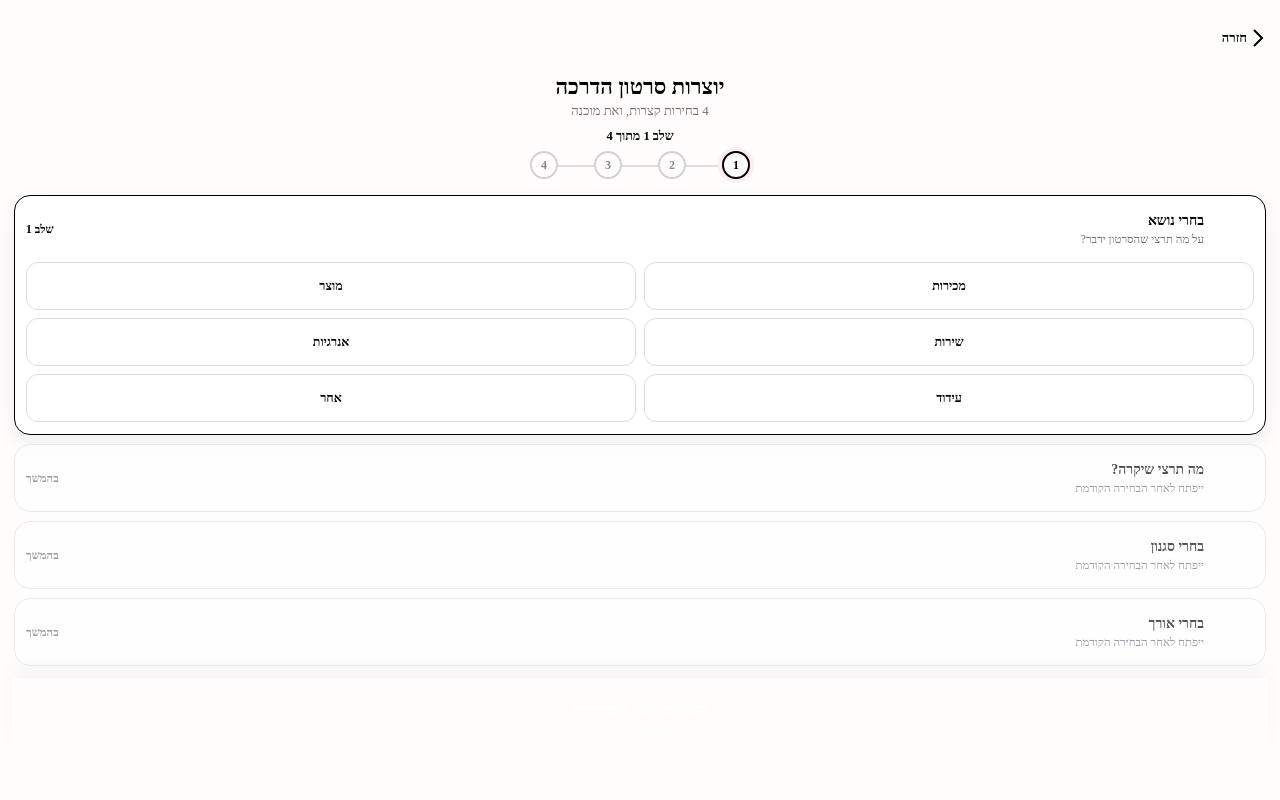
the video wizard › refuses to submit until all four choices are made
Click the button "מכירות" at (949, 286), box [644,262,1254,310]
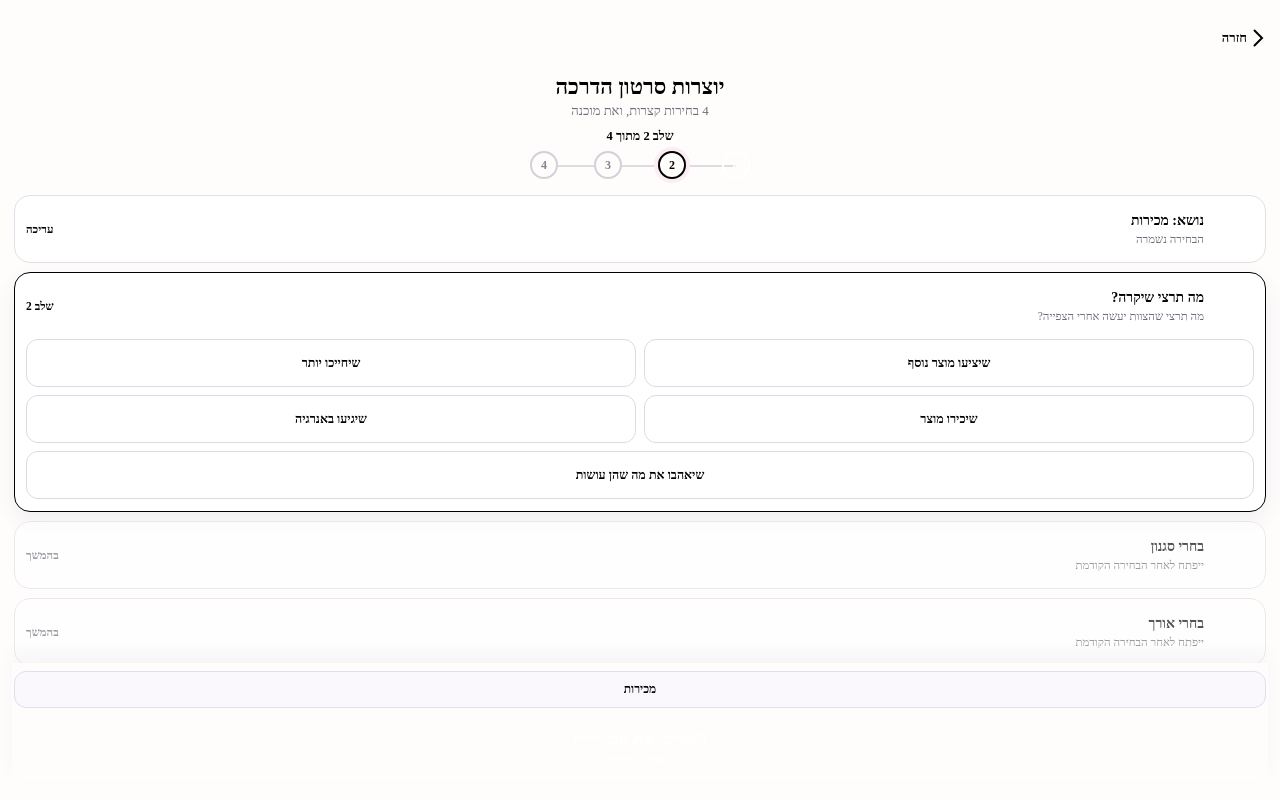
Click the button "שיציעו מוצר נוסף" at (949, 363), box [644,339,1254,387]
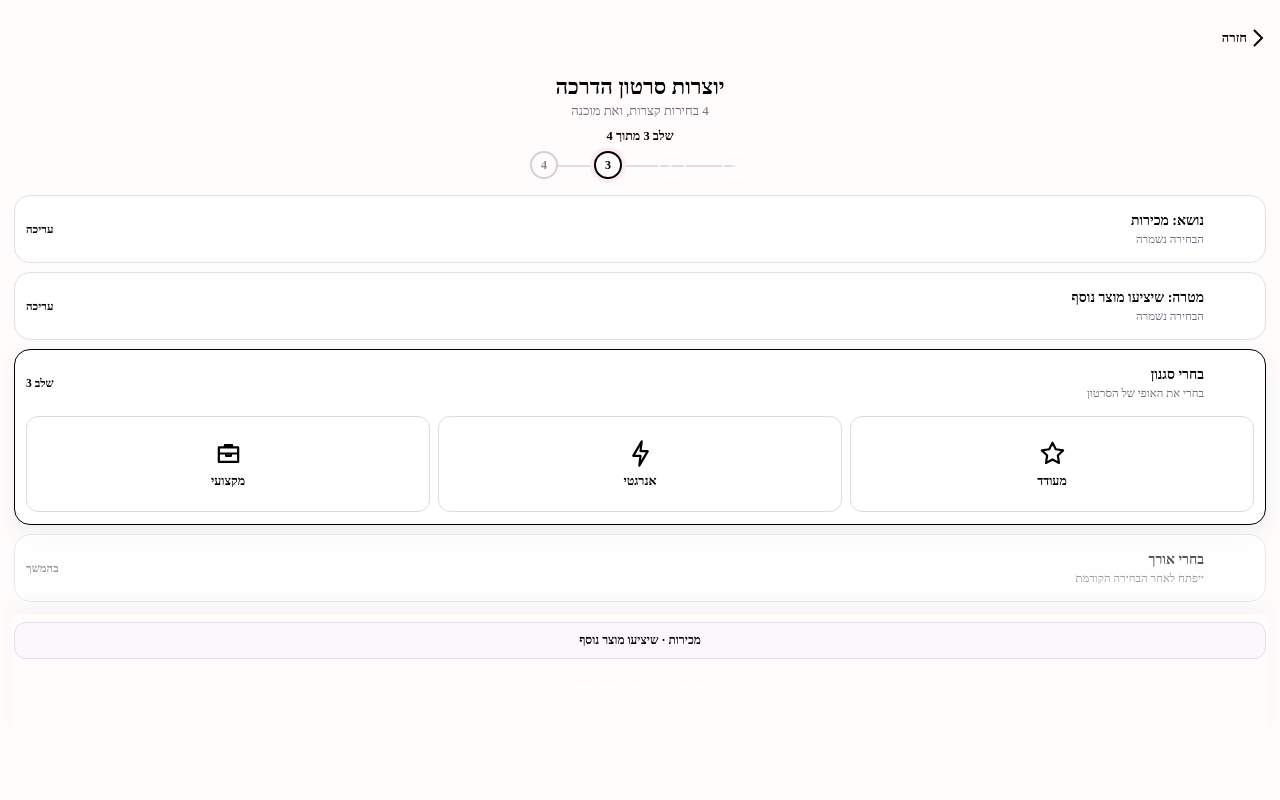
Click the button "אנרגטי" at (640, 464), box [438,416,842,512]
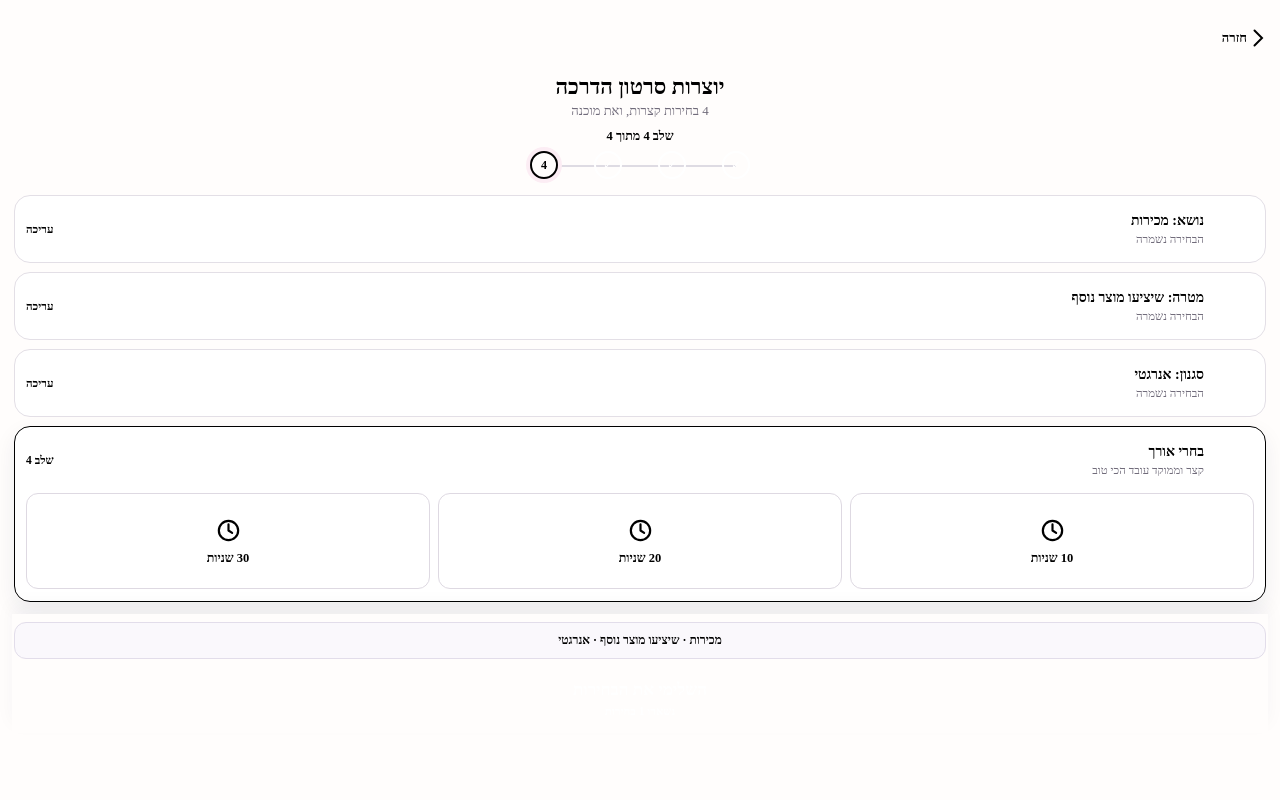
Click the button "20 שניות" at (640, 541), box [438,493,842,589]
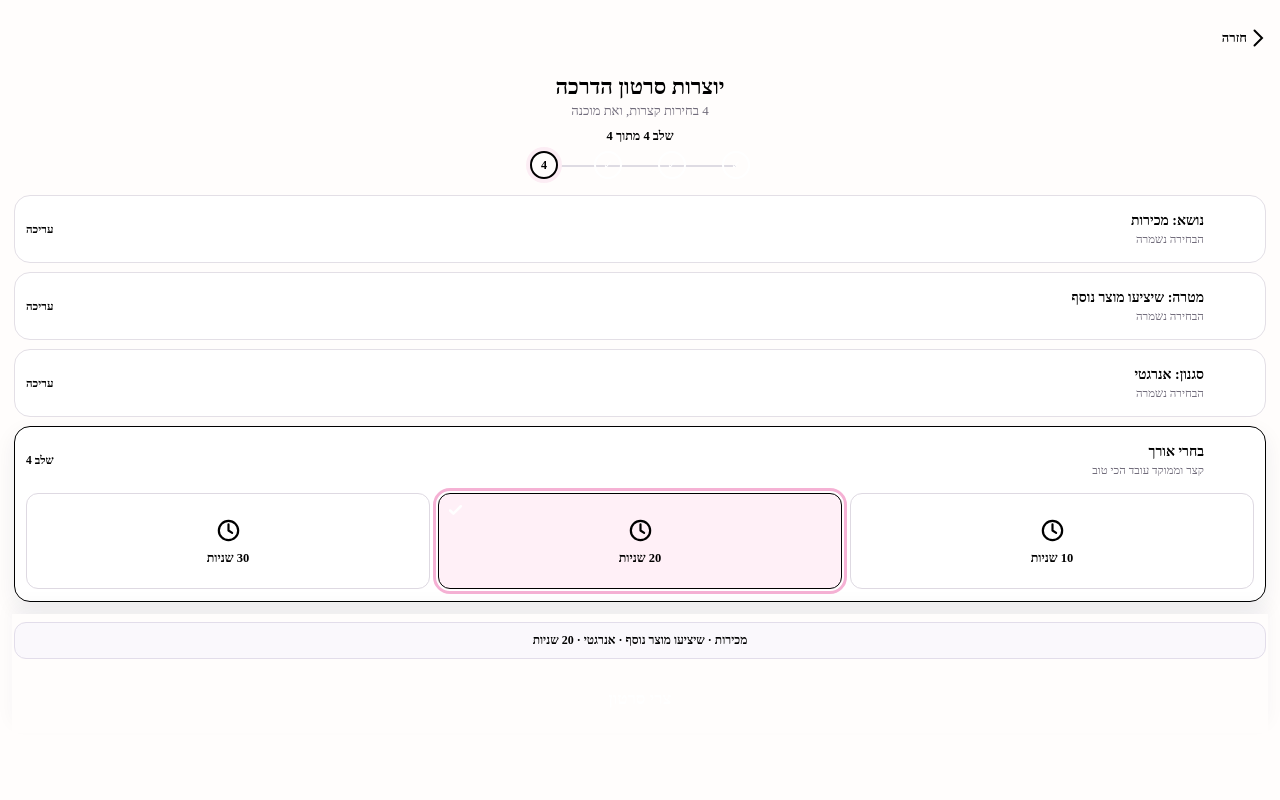
Result: the text named "סיכום הבחירות" reads "מכירות · שיציעו מוצר נוסף · אנרגטי · 20 שניות" at [533,633,747,647]
